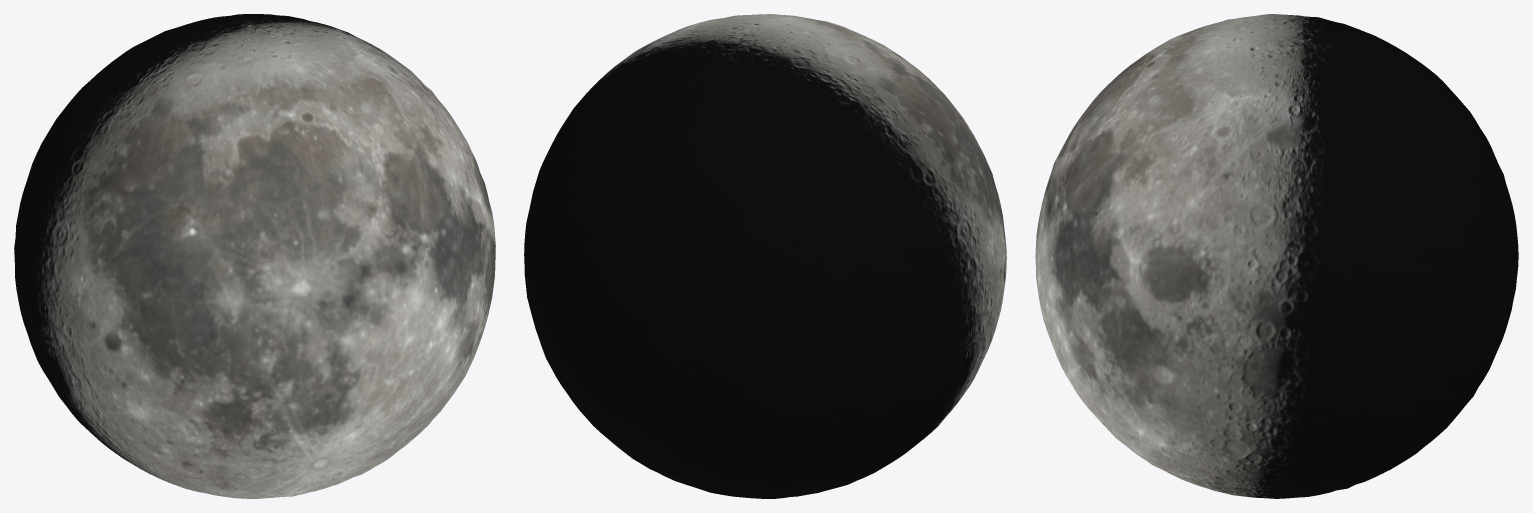
The model's file is moon.glb.
3 views of the same model, side by side, from view 1: azimuth 30°, elevation 25°; view 2: azimuth 150°, elevation 25°; view 3: azimuth 270°, elevation 25° (orthographic).
Visible parts, largest first — view 1: Object_91; view 2: Object_91; view 3: Object_91.
Part boxes in pixels (x1,y1,x2,y2): Object_91: [14, 14, 495, 498]; Object_91: [524, 14, 1006, 498]; Object_91: [1035, 14, 1518, 498].
Size of the model in its own units: 21.2 by 21.38 by 21.28.
1 material, 1 textured.
